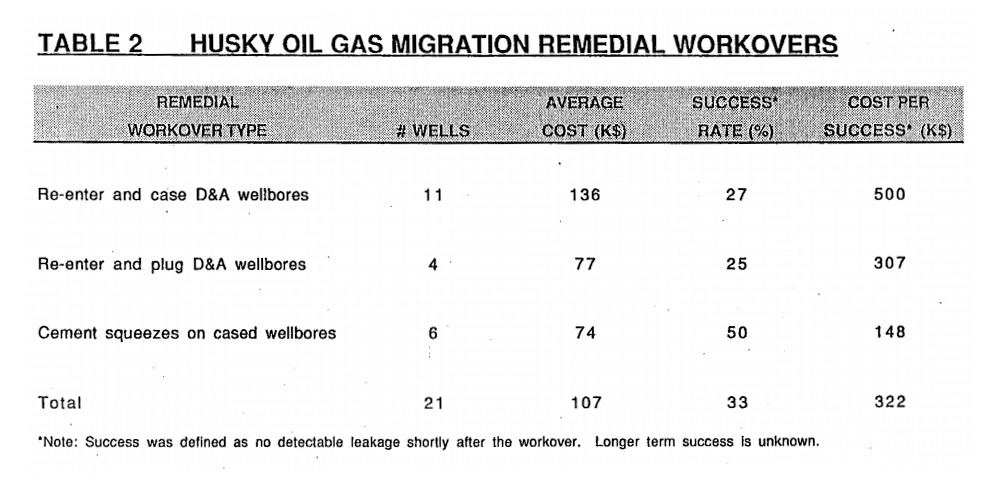fracking table: (32, 82, 961, 414)
